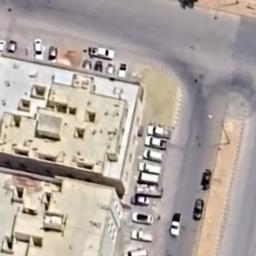sedan: (88, 46, 120, 64), (136, 159, 168, 176), (135, 170, 162, 186), (139, 138, 170, 151), (143, 127, 177, 138), (47, 44, 60, 66), (138, 151, 166, 161), (5, 38, 20, 56), (116, 60, 128, 82), (126, 195, 152, 205), (33, 36, 42, 62), (92, 59, 104, 74), (80, 58, 94, 70), (108, 62, 115, 78)
